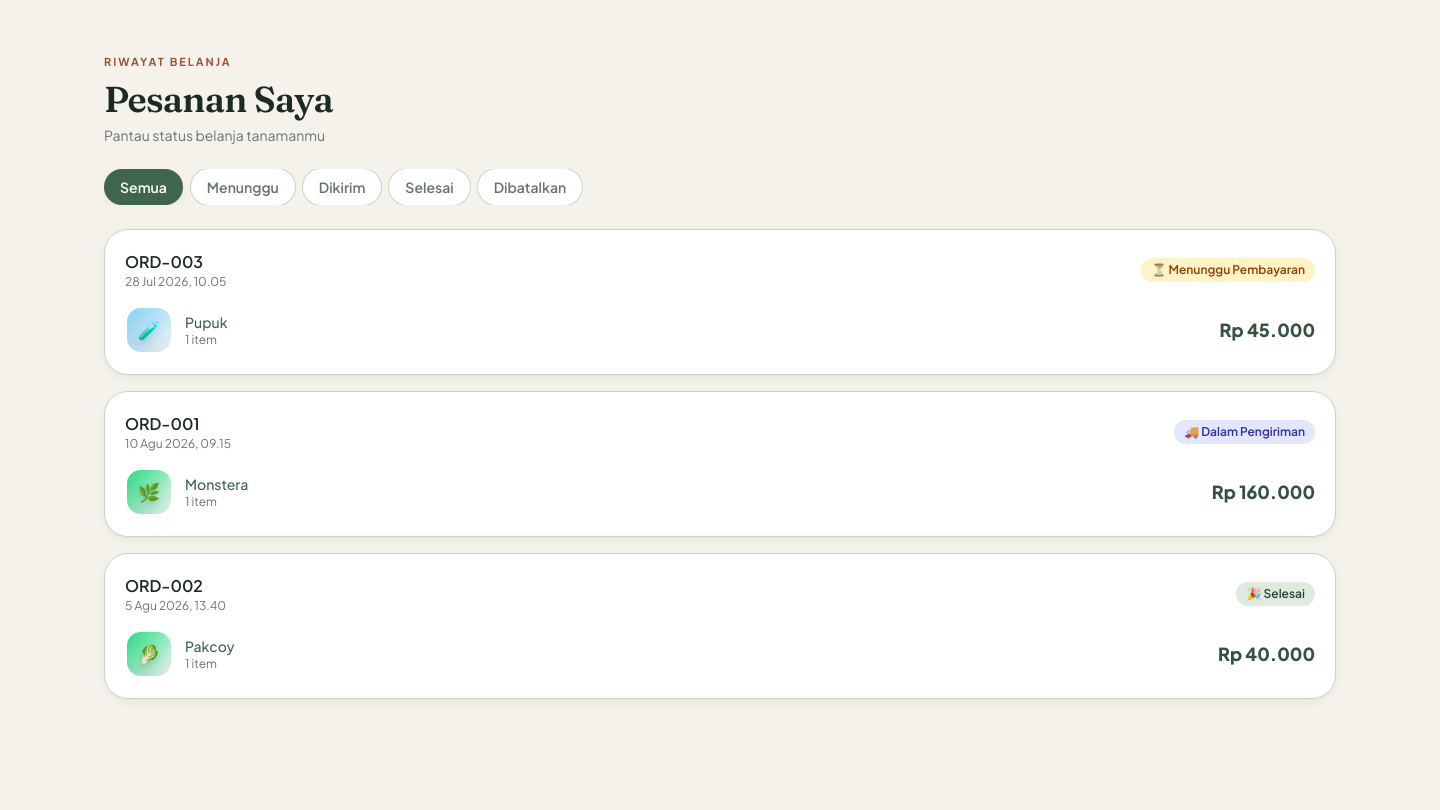
Test case: Orders Page › shows empty state for tab with no orders
Expected: the text "ORD-001" is shown, [125,412,200,434]
Click the button "Dibatalkan" at (530, 186), box [478,168,582,204]
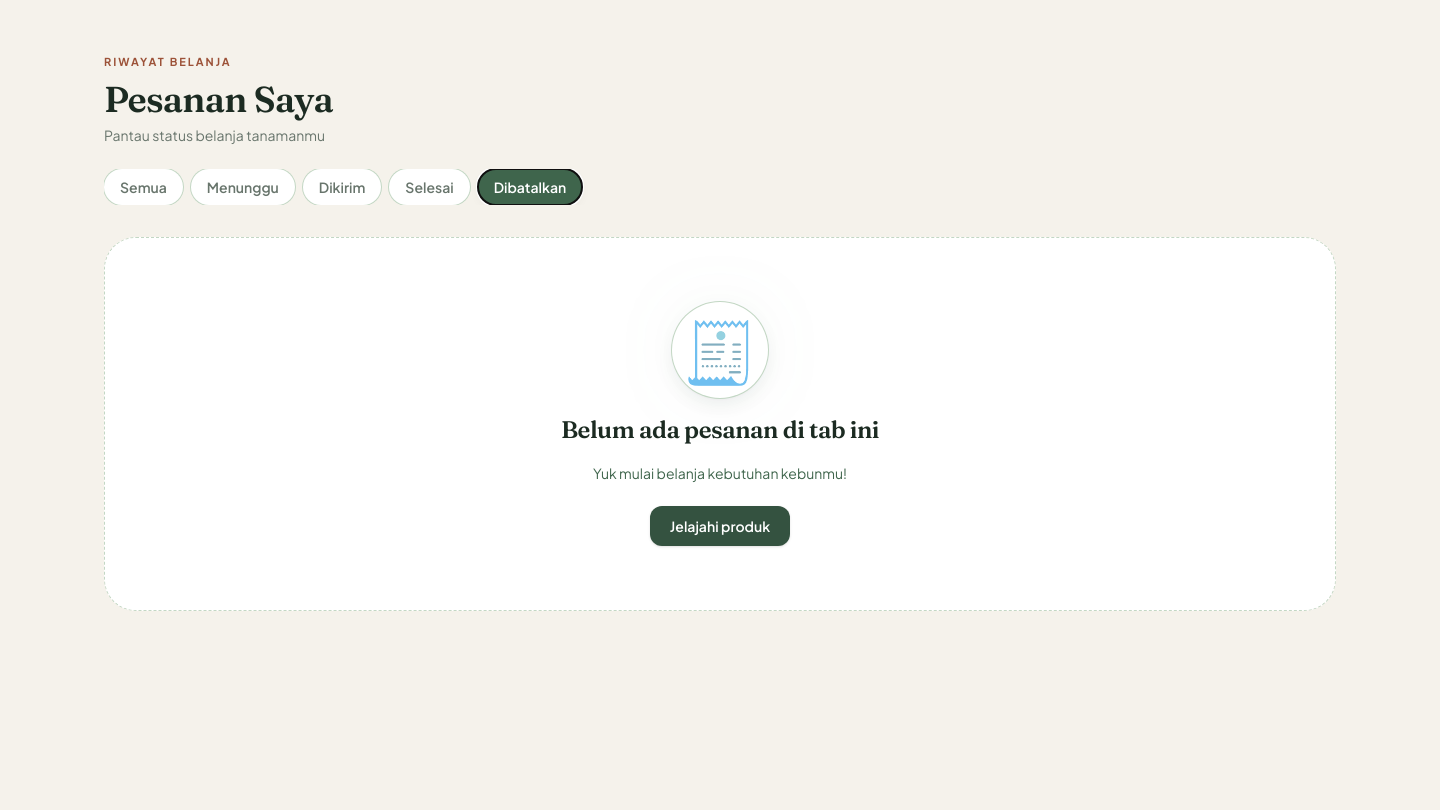
Expected: the heading "Belum ada pesanan di tab ini" is shown, [561,414,879,446]
